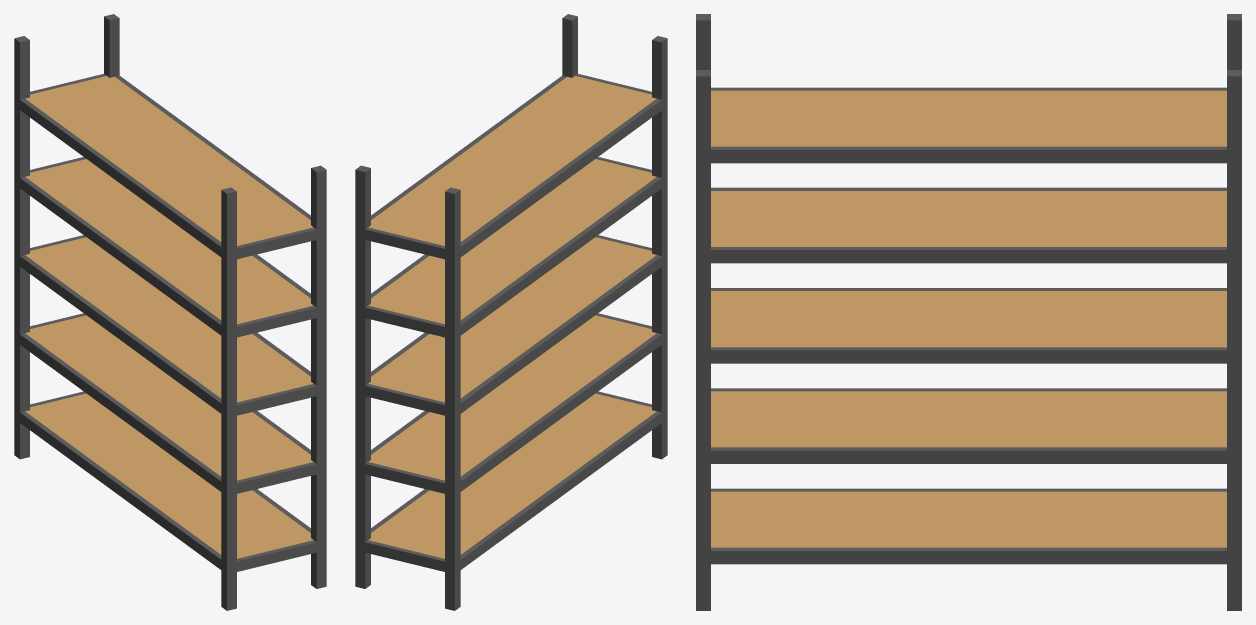
File: Shelve.obj
3 views of the same model, side by side, from view 1: azimuth 30°, elevation 25°; view 2: azimuth 150°, elevation 25°; view 3: azimuth 270°, elevation 25° (orthographic). The views are drawn at different scales.
Bounding box in the file's own units: 2 × 8 × 7.4.
1 material, 1 textured.
